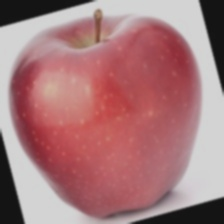apple: (22, 26, 159, 189)
